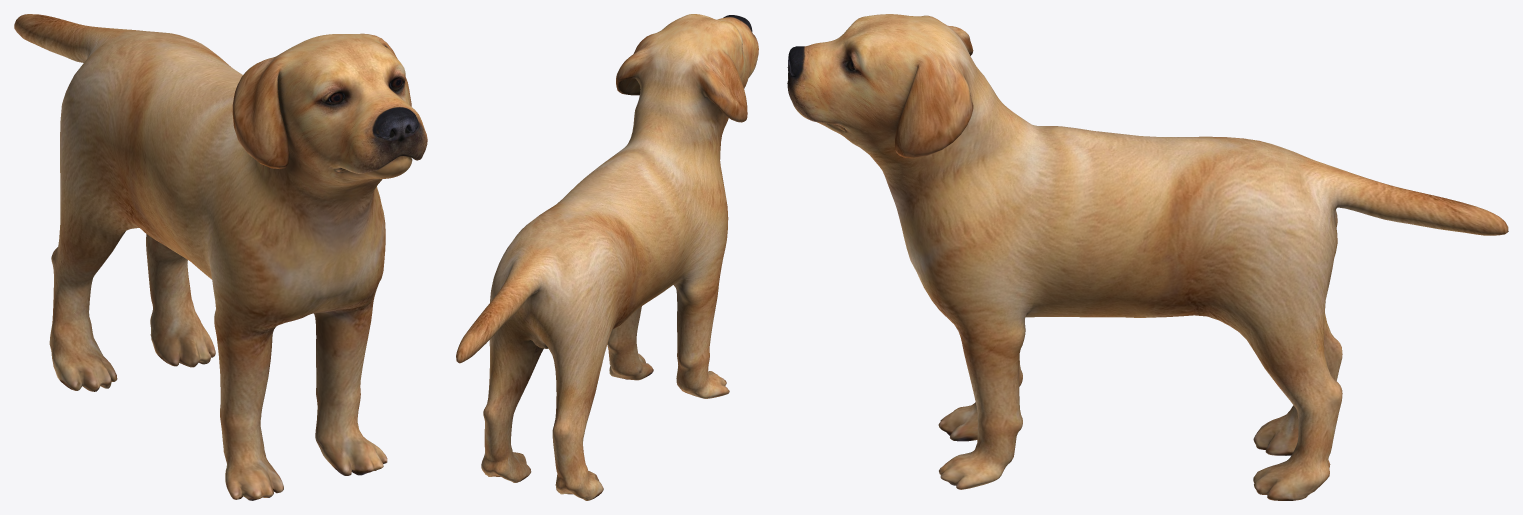
3 views of the same model, side by side, from view 1: azimuth 30°, elevation 25°; view 2: azimuth 150°, elevation 25°; view 3: azimuth 270°, elevation 25° (orthographic). The views are drawn at different scales.
Parts seen in each view (by area): view 1: 12228_Dog_v1_L2; view 2: 12228_Dog_v1_L2; view 3: 12228_Dog_v1_L2.
Part boxes in pixels (left/top/right/bottom): 12228_Dog_v1_L2: left=14, top=14, right=427, bottom=500; 12228_Dog_v1_L2: left=456, top=14, right=758, bottom=500; 12228_Dog_v1_L2: left=787, top=14, right=1508, bottom=500.
Bounding box in the file's own units: 1.17 × 3.19 × 4.65.
1 material, 1 textured.
